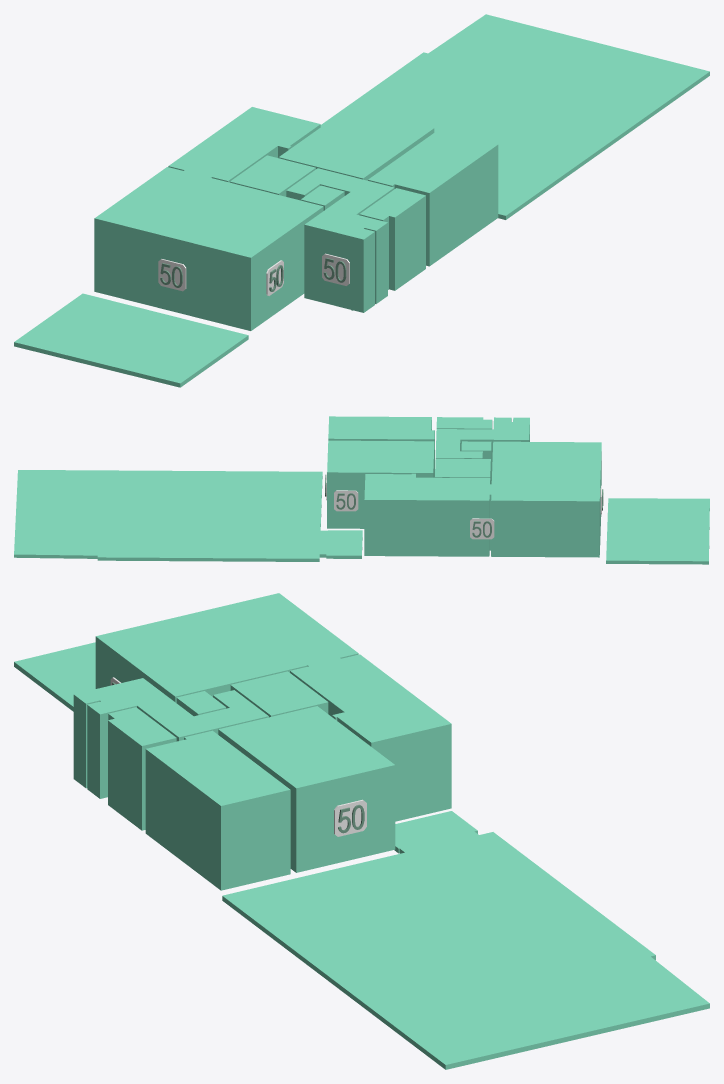
The picture shows the model from 3 angles, top to bottom: view 1: azimuth 30°, elevation 25°; view 2: azimuth 150°, elevation 25°; view 3: azimuth 270°, elevation 25°; orthographic projection. The views are drawn at different scales.
Visible parts, largest first — view 1: g_8, g_7, g_9, g_0, g_5, g_1, g_2, g_6, g_3, g_4, g_24; view 2: g_8, g_7, g_2, g_9, g_1, g_0, g_5, g_3, g_6, g_27, g_12, g_4; view 3: g_8, g_0, g_7, g_1, g_2, g_5, g_6, g_9, g_3, g_4, g_21.
Part boxes in pixels (bbox=[...]): g_8: bbox=[320, 14, 709, 219]; g_7: bbox=[94, 167, 323, 330]; g_9: bbox=[14, 293, 248, 387]; g_0: bbox=[368, 129, 498, 266]; g_5: bbox=[286, 168, 394, 312]; g_1: bbox=[278, 107, 434, 180]; g_2: bbox=[168, 107, 320, 182]; g_6: bbox=[359, 188, 425, 290]; g_3: bbox=[230, 155, 315, 196]; g_4: bbox=[301, 185, 344, 210]; g_24: bbox=[158, 259, 186, 291]; g_8: bbox=[14, 470, 362, 561]; g_7: bbox=[490, 441, 601, 557]; g_2: bbox=[364, 473, 490, 556]; g_9: bbox=[606, 498, 709, 564]; g_1: bbox=[327, 440, 434, 528]; g_0: bbox=[328, 416, 434, 477]; g_5: bbox=[435, 417, 529, 480]; g_3: bbox=[435, 458, 490, 484]; g_6: bbox=[436, 417, 492, 429]; g_27: bbox=[470, 518, 494, 539]; g_12: bbox=[334, 490, 358, 511]; g_4: bbox=[461, 441, 491, 484]; g_8: bbox=[222, 811, 709, 1069]; g_0: bbox=[145, 730, 290, 890]; g_7: bbox=[95, 593, 358, 702]; g_1: bbox=[218, 706, 395, 872]; g_2: bbox=[290, 654, 451, 821]; g_5: bbox=[73, 678, 268, 798]; g_6: bbox=[108, 707, 176, 830]; g_9: bbox=[14, 642, 95, 711]; g_3: bbox=[230, 671, 328, 717]; g_4: bbox=[176, 691, 226, 716]; g_21: bbox=[334, 799, 366, 836].
Size of the model in its own units: 29.34 by 2.74 by 19.19.
